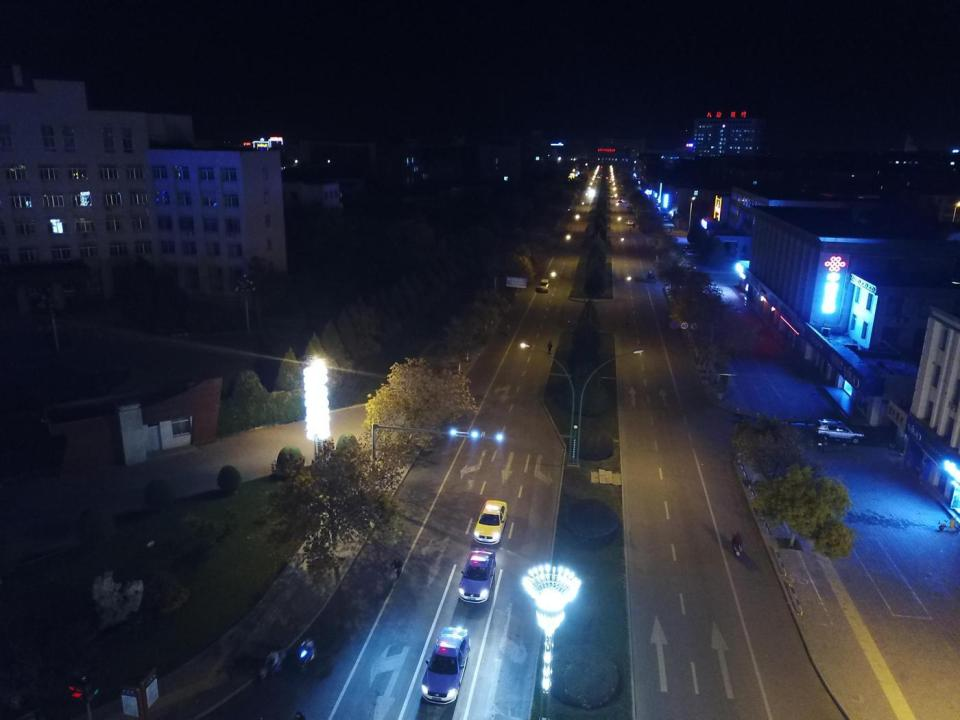car: (420, 627, 469, 704), (458, 550, 496, 603), (475, 498, 508, 544), (816, 418, 867, 443), (538, 279, 550, 292), (683, 249, 702, 257), (647, 272, 656, 281), (568, 172, 574, 178), (736, 307, 742, 313), (627, 220, 633, 224), (571, 156, 576, 160), (636, 185, 640, 190), (662, 216, 667, 220), (652, 199, 656, 204), (629, 208, 634, 212), (618, 198, 622, 202), (618, 182, 622, 186), (636, 176, 640, 180), (627, 204, 632, 207), (611, 194, 614, 198), (596, 176, 600, 178), (611, 180, 614, 182), (606, 176, 608, 178)
